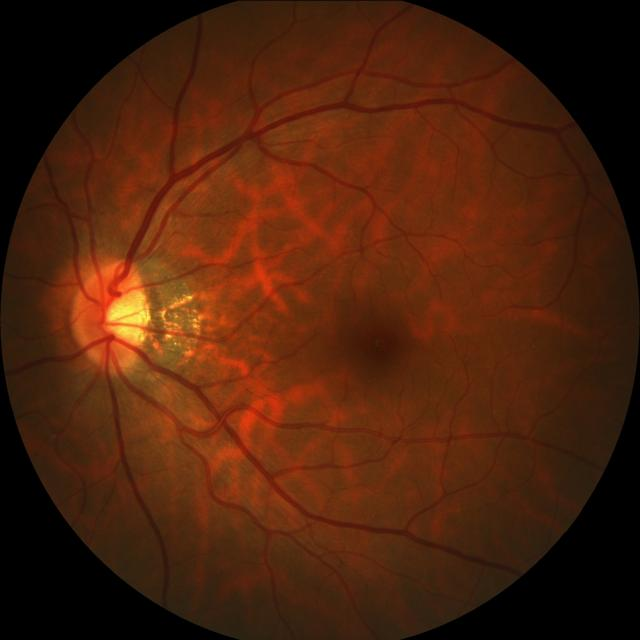OC: (99, 289, 148, 342)
OD: (70, 265, 149, 368)
